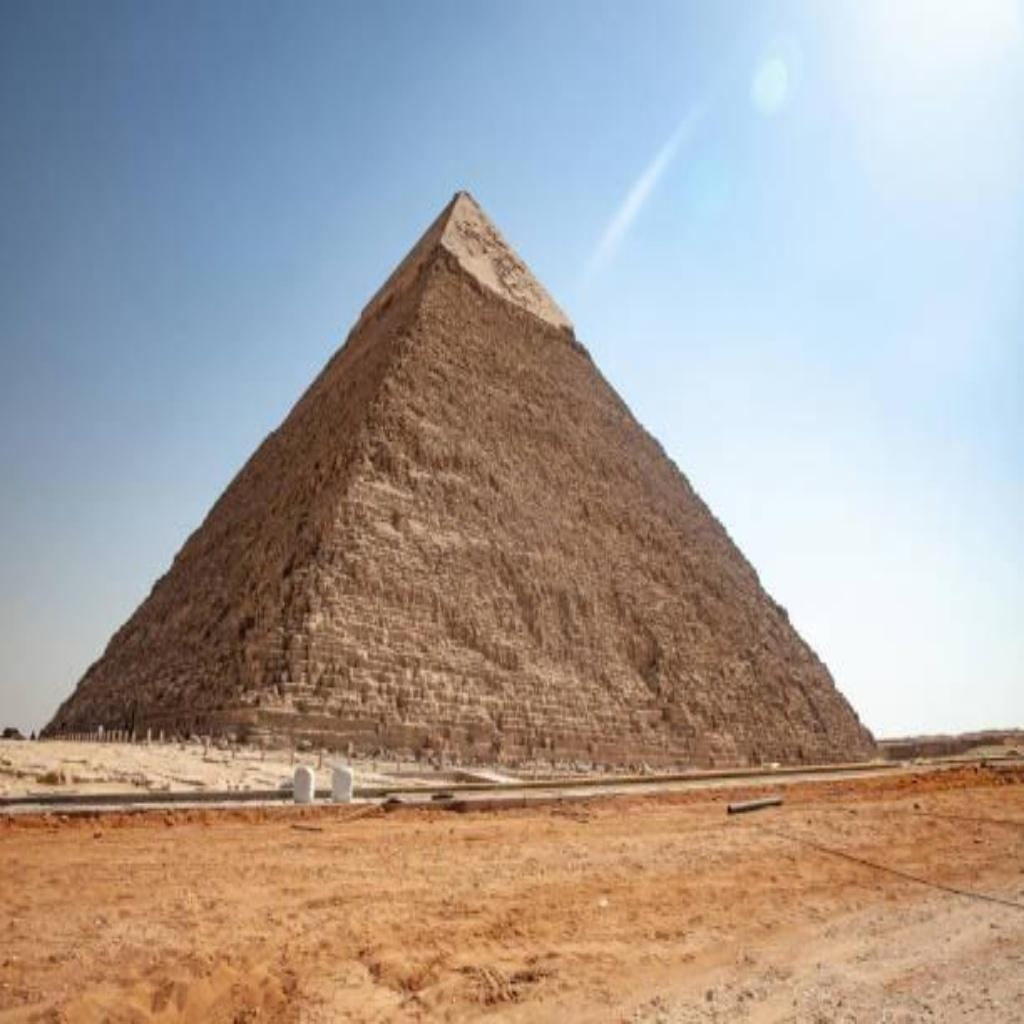Great Pyramids of Giza: (36, 184, 884, 776)
